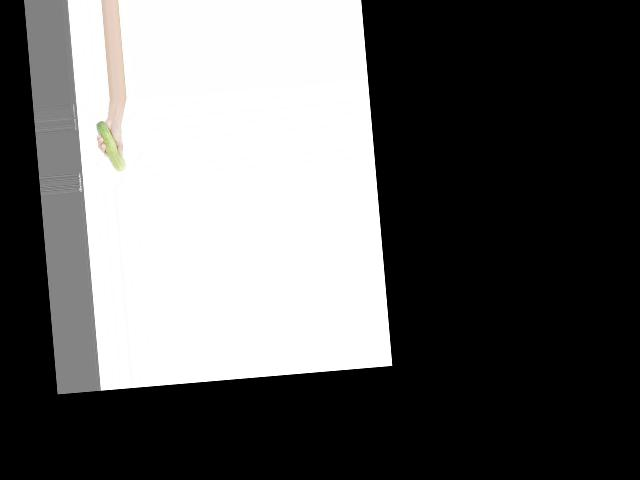cucumber: (95, 118, 126, 172)
